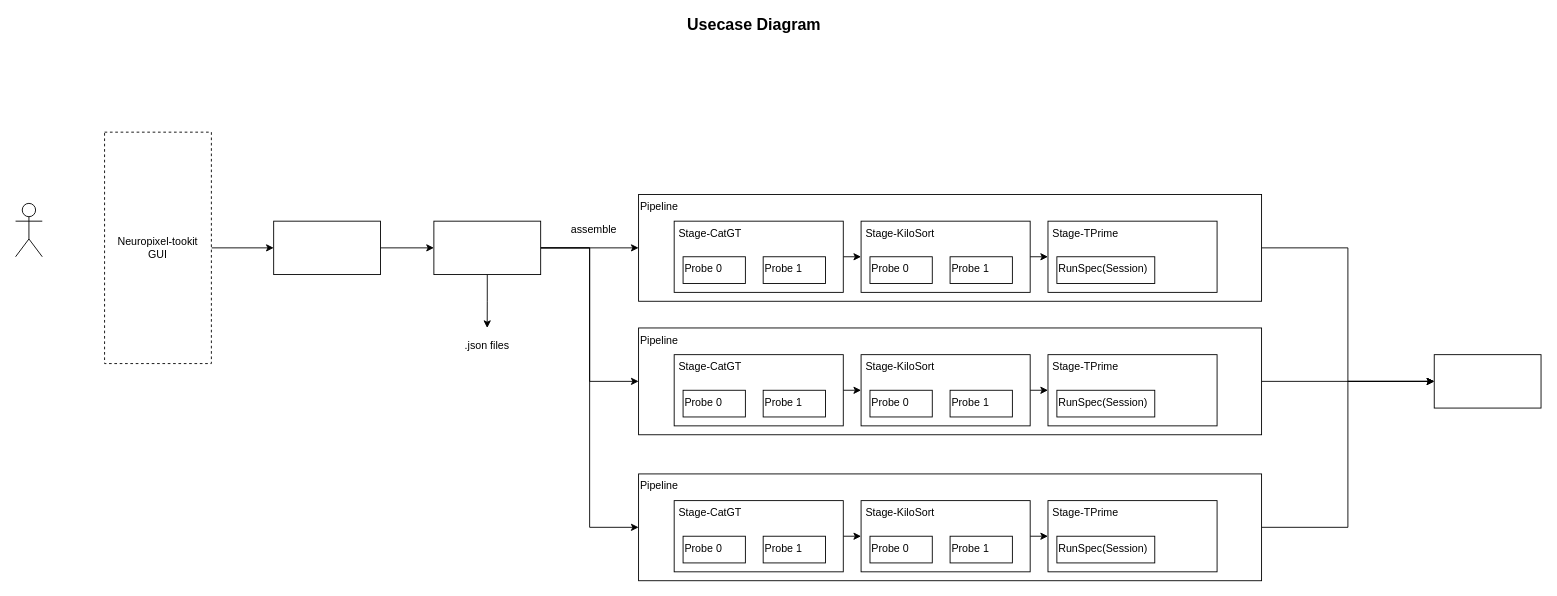
Image size: 1557x596. Some labels were removed from this diagram. The centre of each missing label's shape, as x and y in pixels:
"launch.m" belongs at (326,247).
"make Config objects" belongs at (487,247).
"Result" belongs at (1487,381).
"User" belongs at (28,229).
